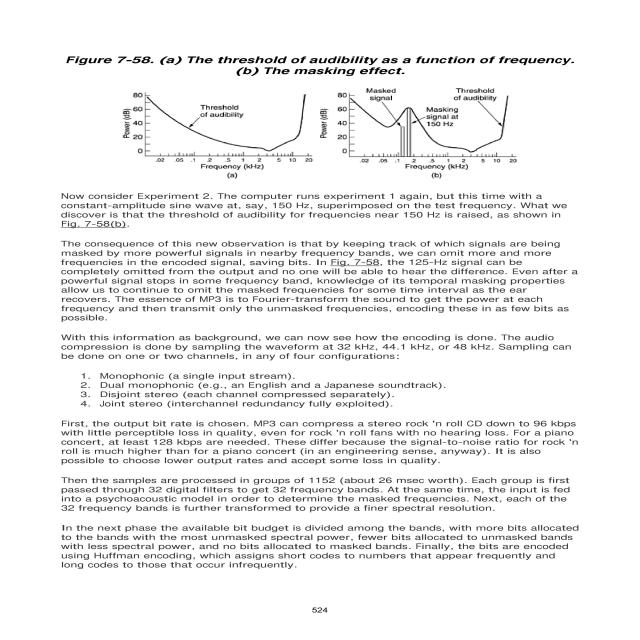diagram: (38, 50, 618, 181)
